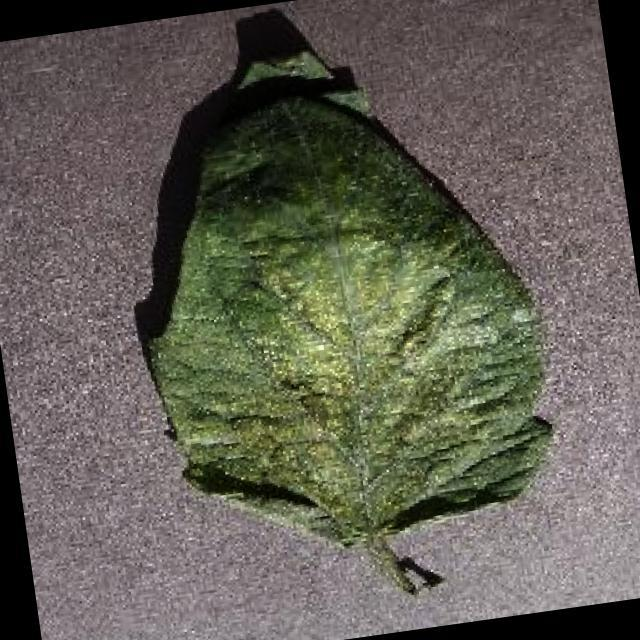Tomato spider mites leaf: (106, 21, 565, 569)
